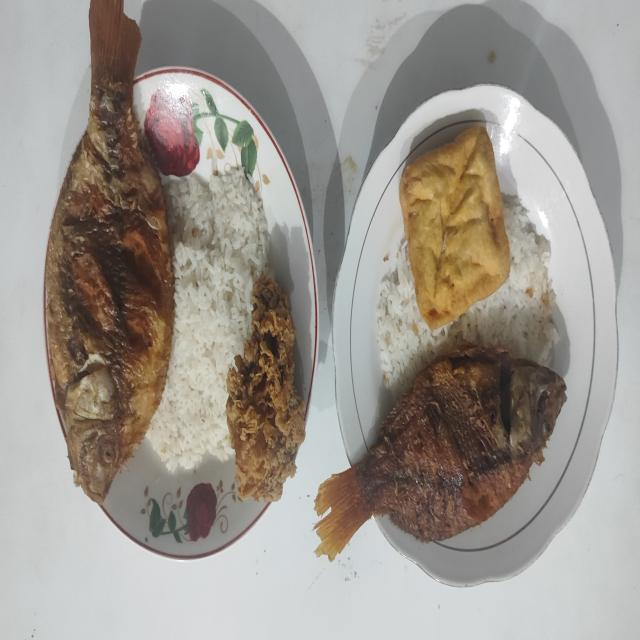ikan_mujair: (44, 0, 174, 504), (316, 346, 565, 559)
nasi_putih: (376, 195, 560, 396), (146, 170, 266, 470)
tahu_goreng: (400, 127, 510, 330)
